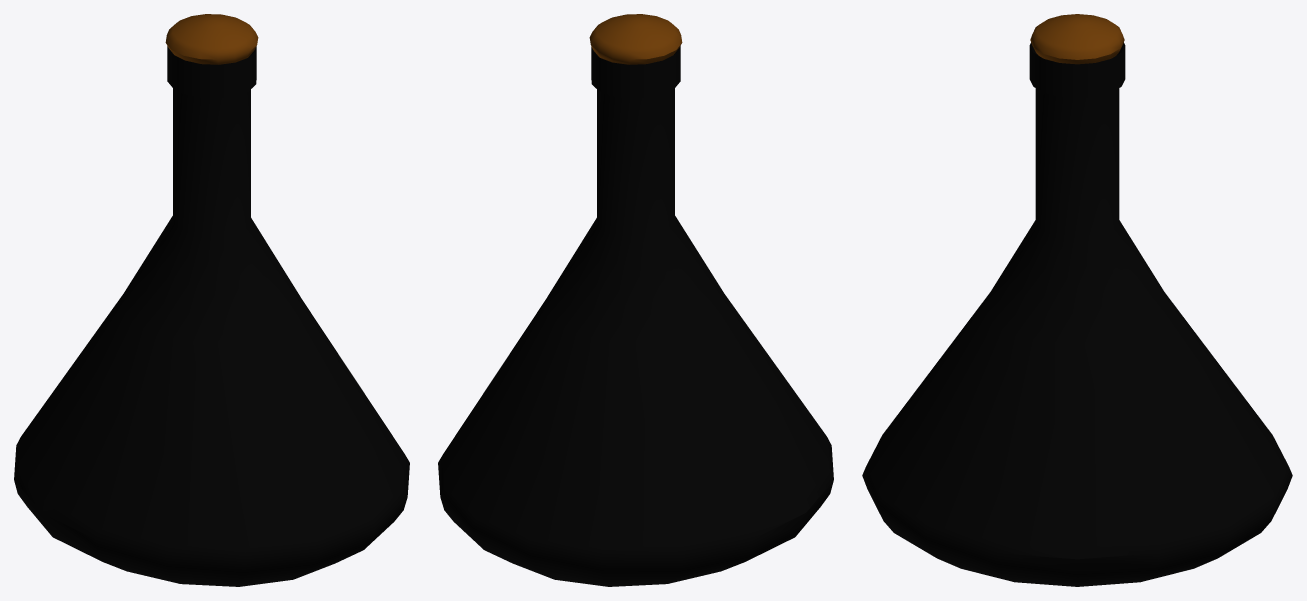
Rendered from Bottle.fbx.
3 views of the same model, side by side, from view 1: azimuth 30°, elevation 25°; view 2: azimuth 150°, elevation 25°; view 3: azimuth 270°, elevation 25° (orthographic).
Visible parts, largest first — view 1: Bottle, Cork; view 2: Bottle, Cork; view 3: Bottle, Cork.
Part boxes in pixels (x1=…): Bottle: x1=14, y1=46, x2=409, y2=586; Cork: x1=165, y1=14, x2=258, y2=64; Bottle: x1=438, y1=46, x2=833, y2=586; Cork: x1=589, y1=14, x2=682, y2=64; Bottle: x1=862, y1=42, x2=1292, y2=586; Cork: x1=1030, y1=14, x2=1124, y2=64.
Bounding box in the file's own units: 173 × 243 × 188.
